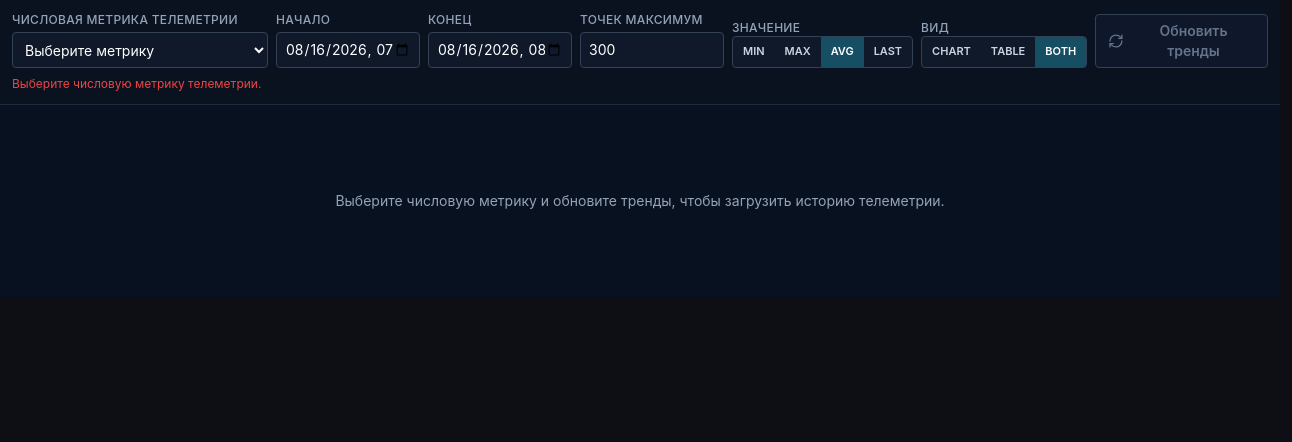
it: DispatchTrendsTab › loads selected Edge catalog and requests typed telemetry history from selected numeric controls
Select "Pump temperature" in the dropdown labelled "Числовая метрика телеметрии" at (140, 50), box [12,32,268,68]
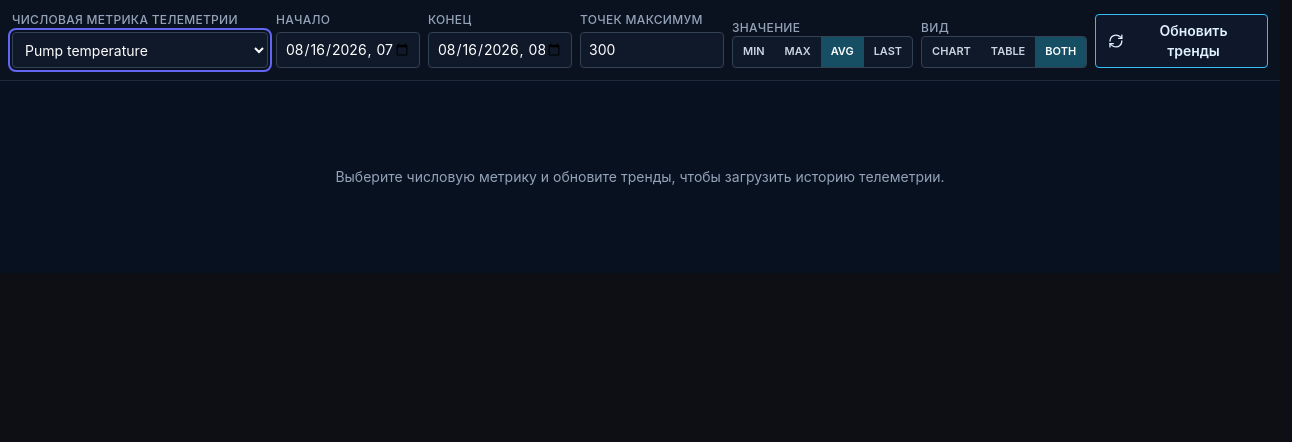
Click the button "Обновить тренды" at (1182, 41), box [1095,14,1268,68]
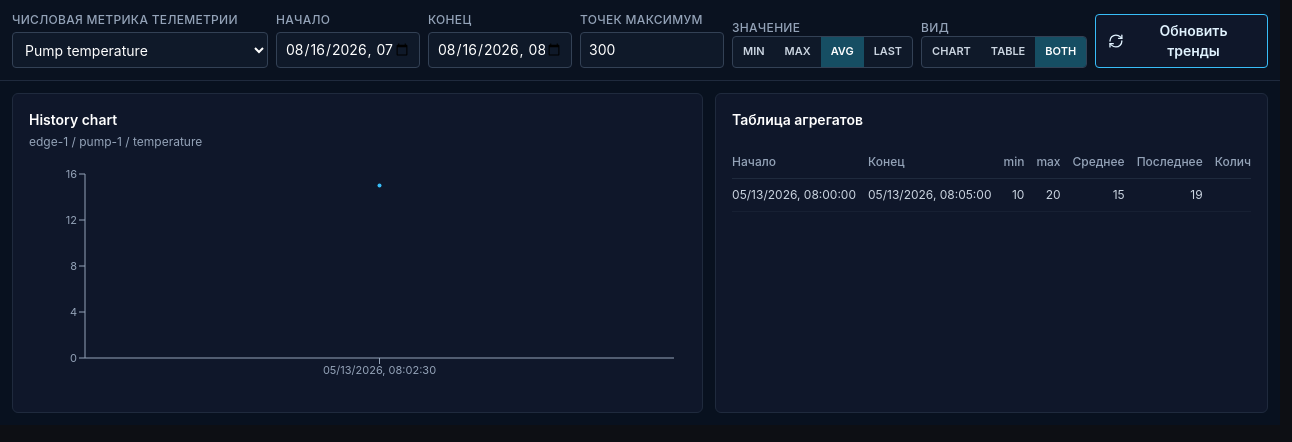
Expected: the text with test id "dispatch-trends-history-summary" reads "edge-1 / pump-1 / temperature", [29,134,202,149]
Click the radio button labelled "max" at (798, 51), box [784,44,811,58]
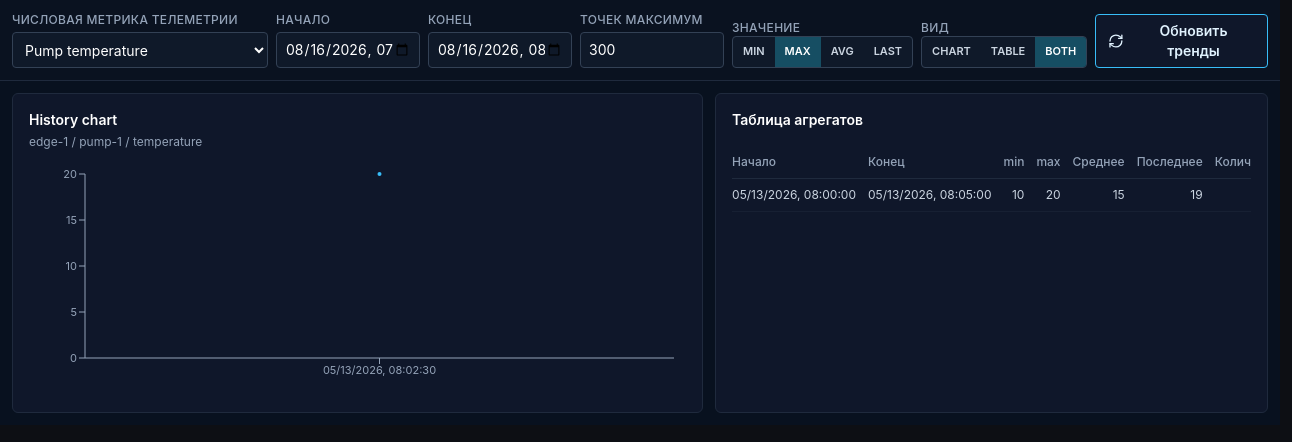
Expected: the column heading "Начало" is shown, [732,146,868,179]
Expected: the column heading "Конец" is shown, [868,146,1004,179]
Expected: the column heading "min" is shown, [1004,146,1036,179]
Click the radio button labelled "table" at (1008, 51), box [991,44,1025,58]
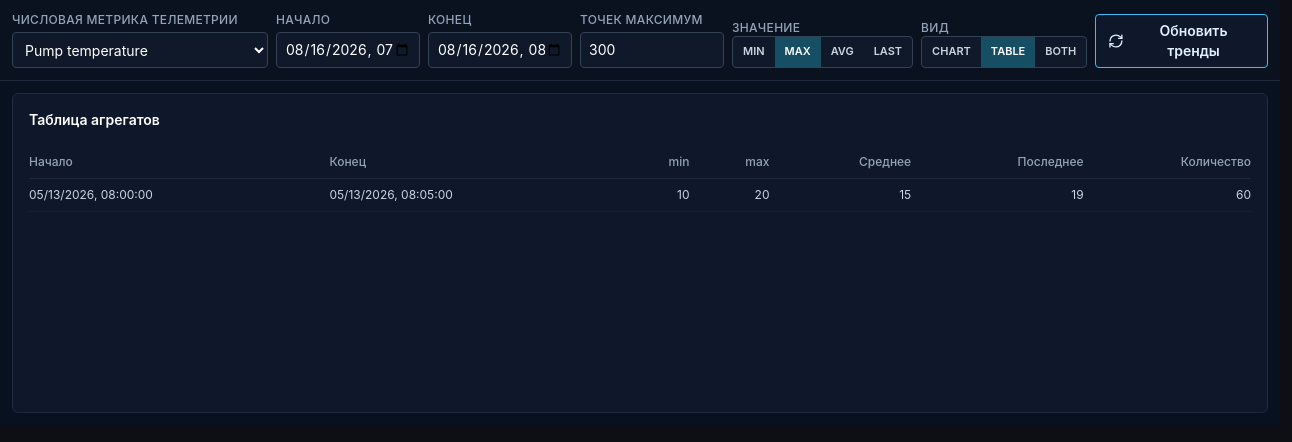
Expected: the element with test id "dispatch-trends-table" is shown
Expected: the element with test id "dispatch-trends-chart" is gone
Click the radio button labelled "chart" at (952, 51), box [932,44,971,58]
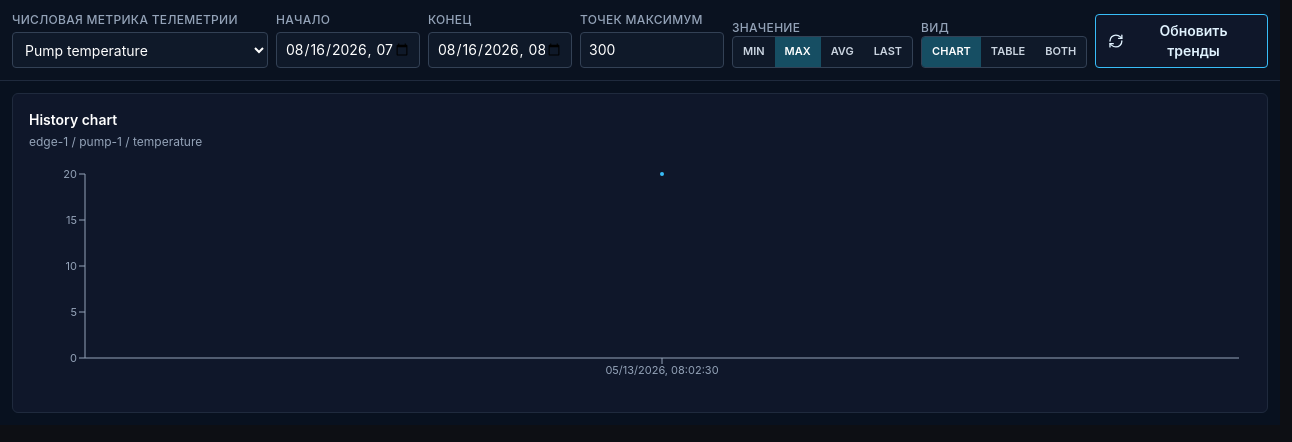
Expected: the element with test id "dispatch-trends-chart" is shown
Expected: the element with test id "dispatch-trends-table" is gone
